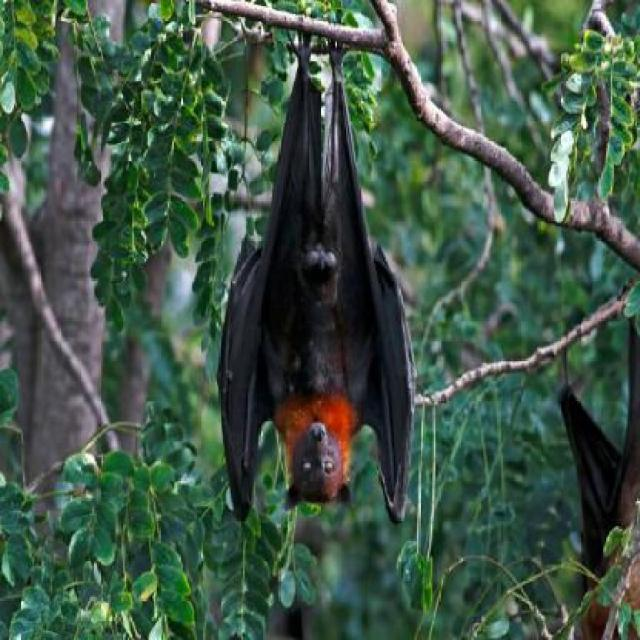Bat: (205, 27, 416, 532)
